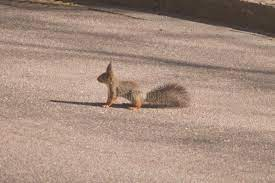squirrel: (97, 60, 190, 110)
